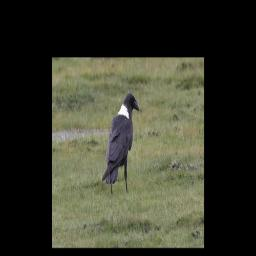Crow: (102, 92, 139, 193)
